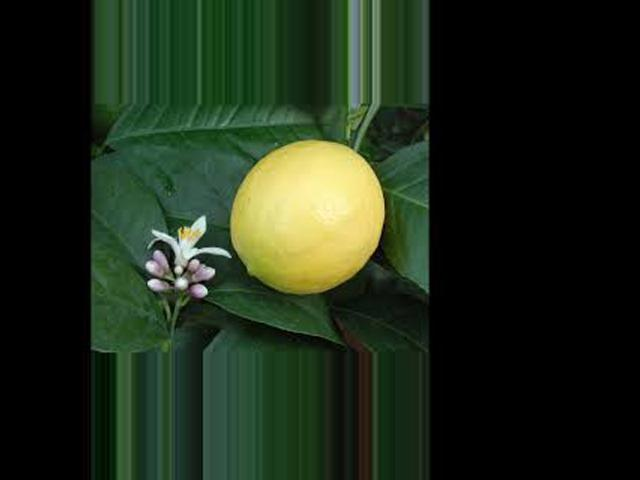lemon: (226, 132, 395, 291)
